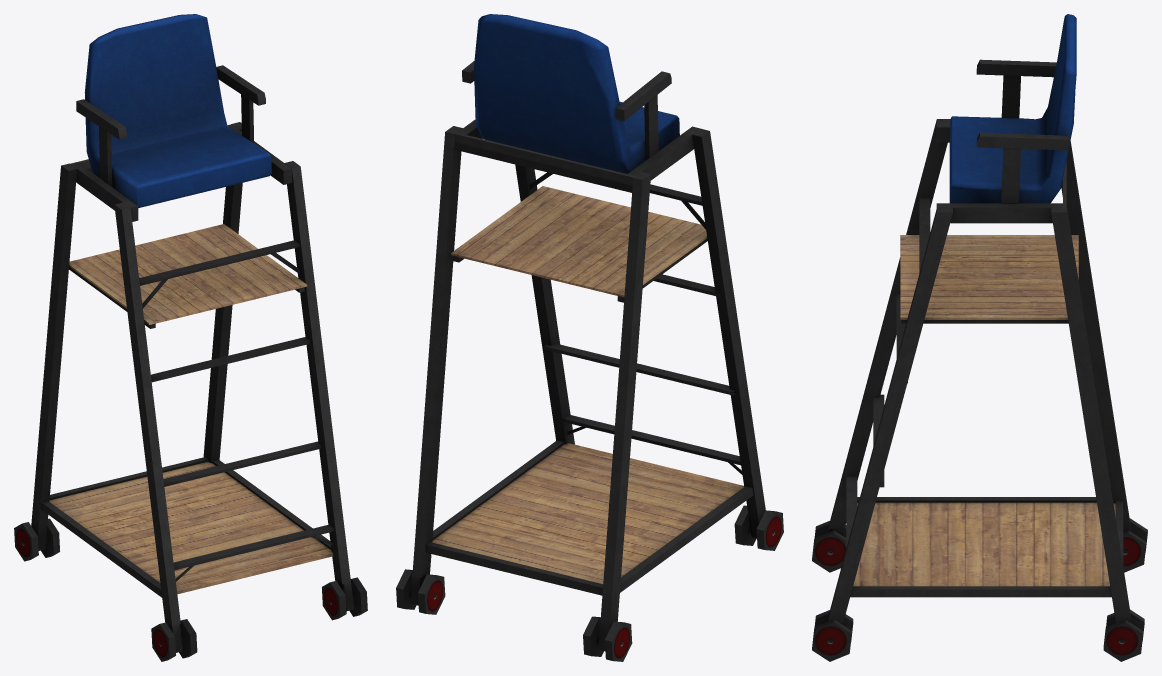
File: UmpireChair3.fbx
The picture shows the model from 3 angles, left to right: view 1: azimuth 30°, elevation 25°; view 2: azimuth 150°, elevation 25°; view 3: azimuth 270°, elevation 25°; orthographic projection. The views are drawn at different scales.
Visible parts, largest first — view 1: UmpireChair3; view 2: UmpireChair3; view 3: UmpireChair3.
Part boxes in pixels (x1,y1,x2,y2): UmpireChair3: (14, 14, 367, 661); UmpireChair3: (396, 14, 783, 661); UmpireChair3: (812, 14, 1147, 661).
Bounding box in the file's own units: 0.0102 × 0.0263 × 0.0139.
